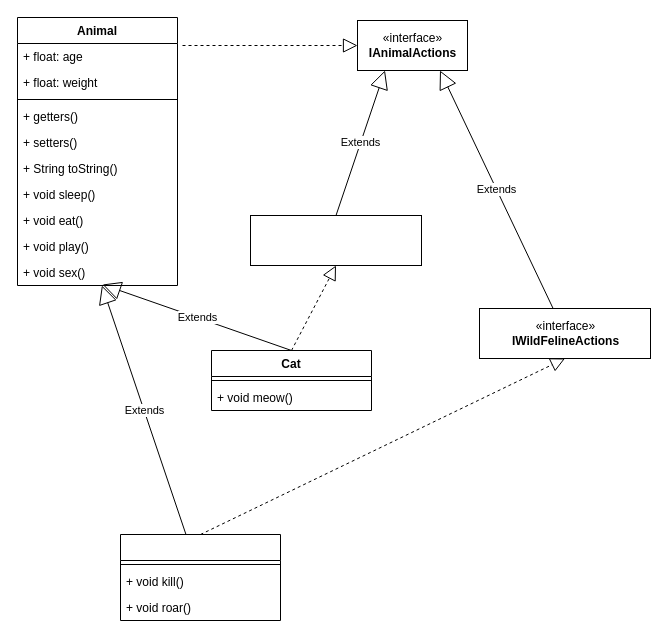
Image size: 668x641. Some labels were removed from this diagram. Here are the shapes that lost their labels. From the top down, the box of each, then its label:
(250, 214, 422, 266): «interface» IHomemadeFelineActions
(120, 534, 280, 620): Jaguar
